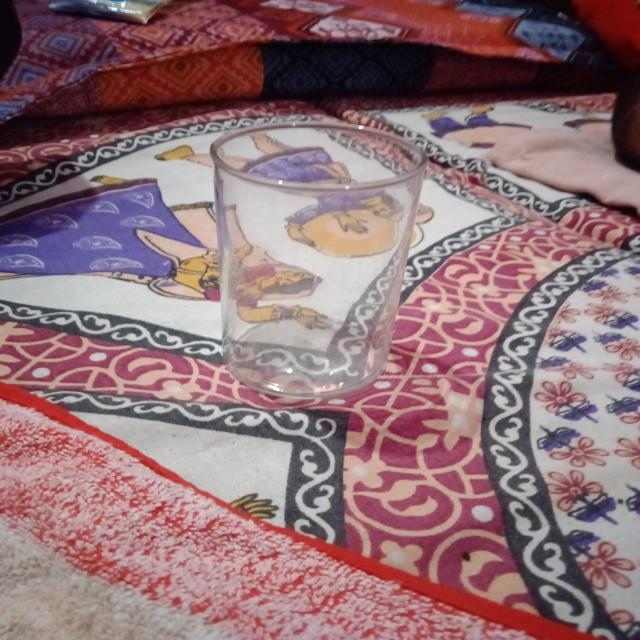Glass: (204, 118, 431, 402)
